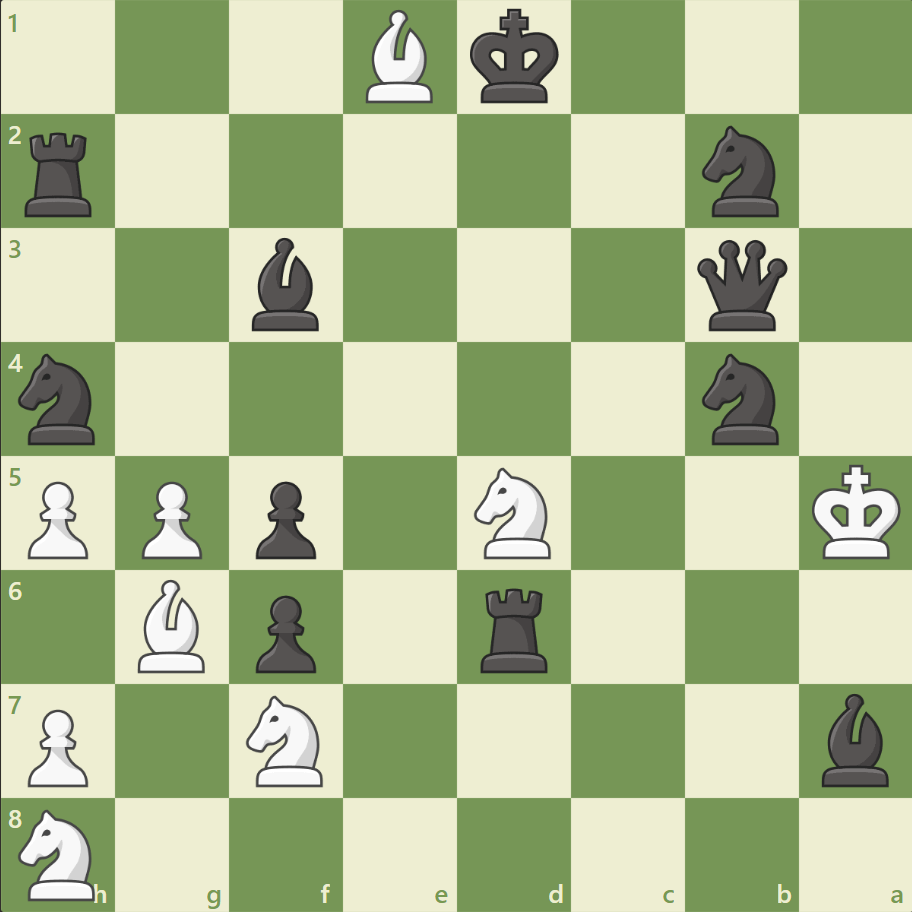B: (358, 6, 442, 109), (131, 574, 215, 676)
K: (806, 458, 906, 566)
N: (238, 688, 335, 791), (465, 461, 562, 564), (11, 802, 108, 904)
P: (20, 700, 95, 791), (133, 473, 208, 564), (20, 473, 95, 564)
b: (812, 687, 896, 790), (244, 233, 328, 336)
k: (465, 4, 565, 112)
n: (692, 348, 789, 450), (11, 348, 108, 450), (692, 121, 789, 223)
p: (247, 586, 322, 677), (247, 473, 322, 564)
q: (691, 236, 790, 335)
r: (473, 579, 556, 676), (19, 125, 102, 222)
